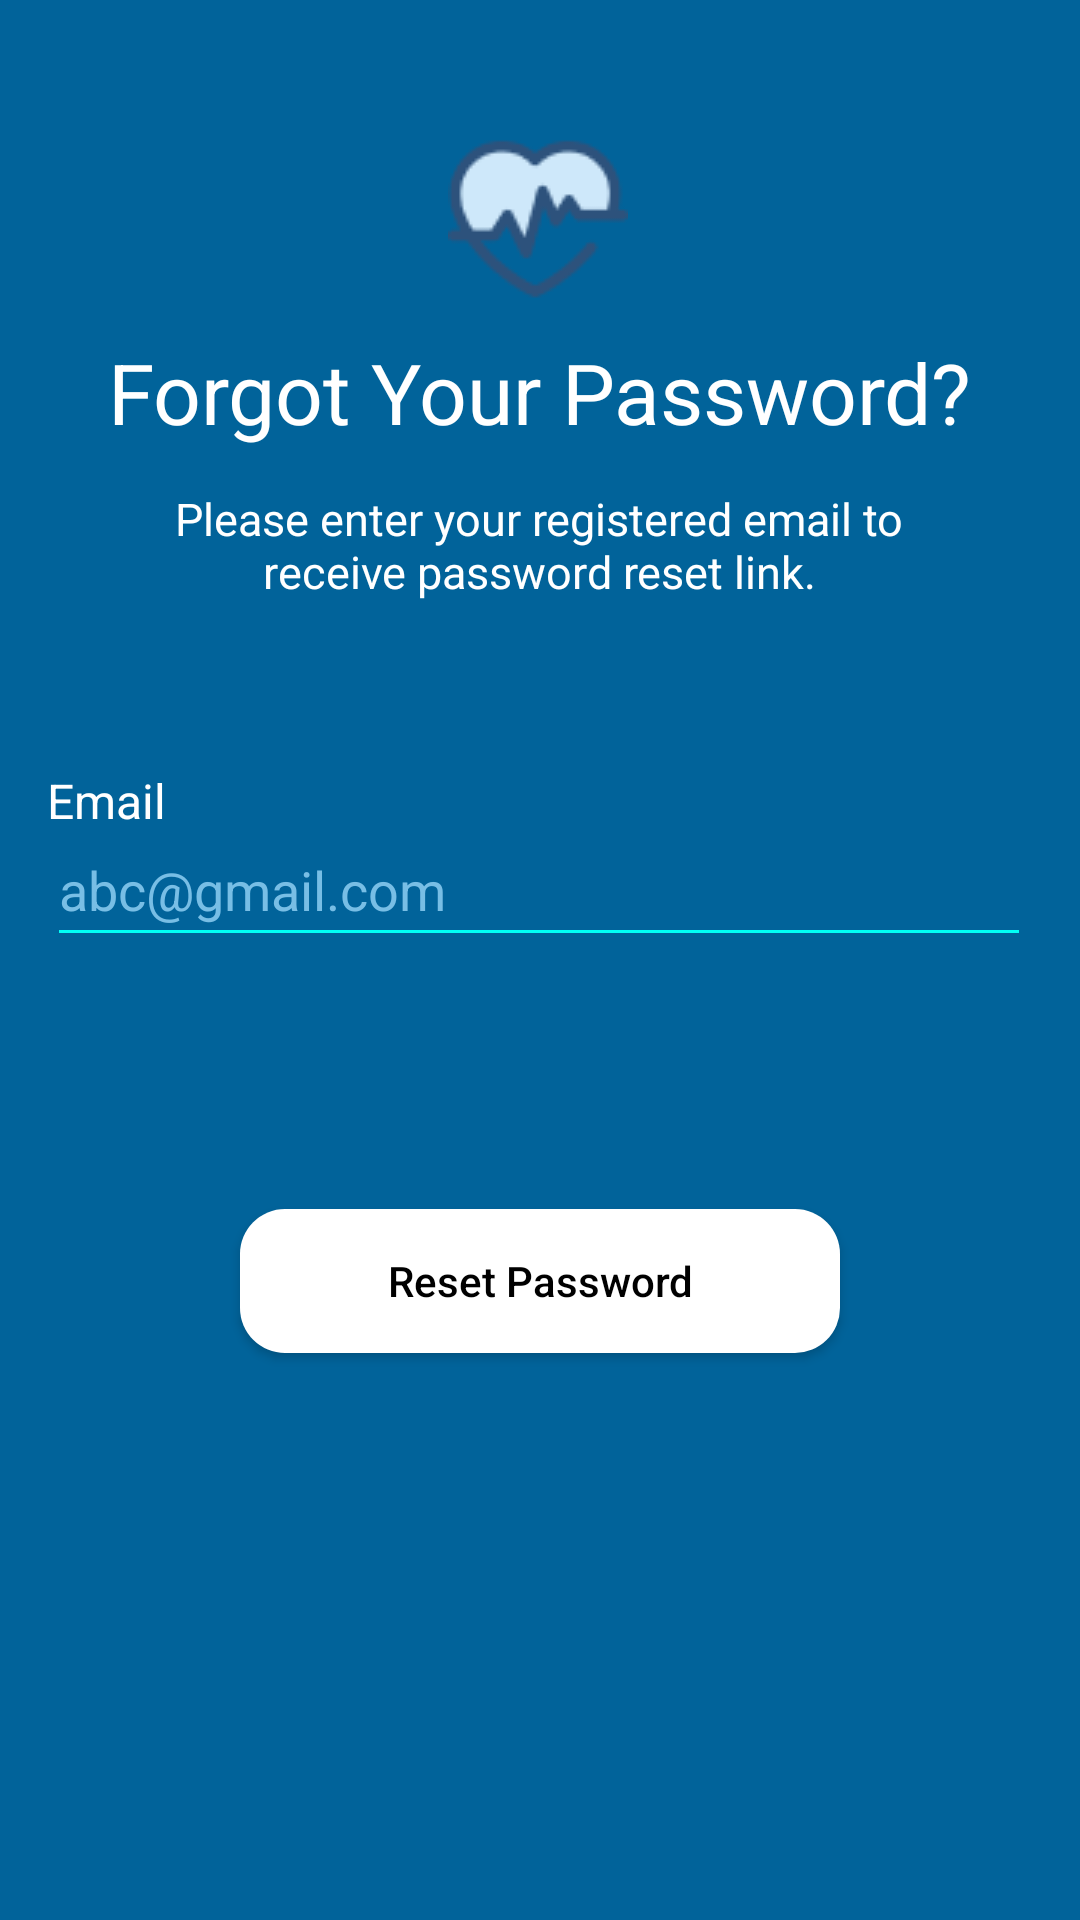

Screen size 1080px×1920px. Icon name, then its center in pixels as (x,y):
startingactivity pulse: (538,219)
